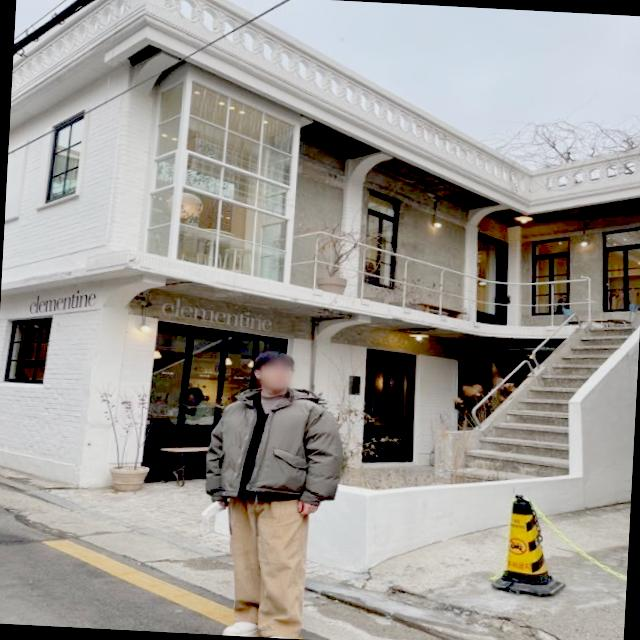cottonpants: (220, 492, 310, 640)
padding: (206, 386, 348, 508)
